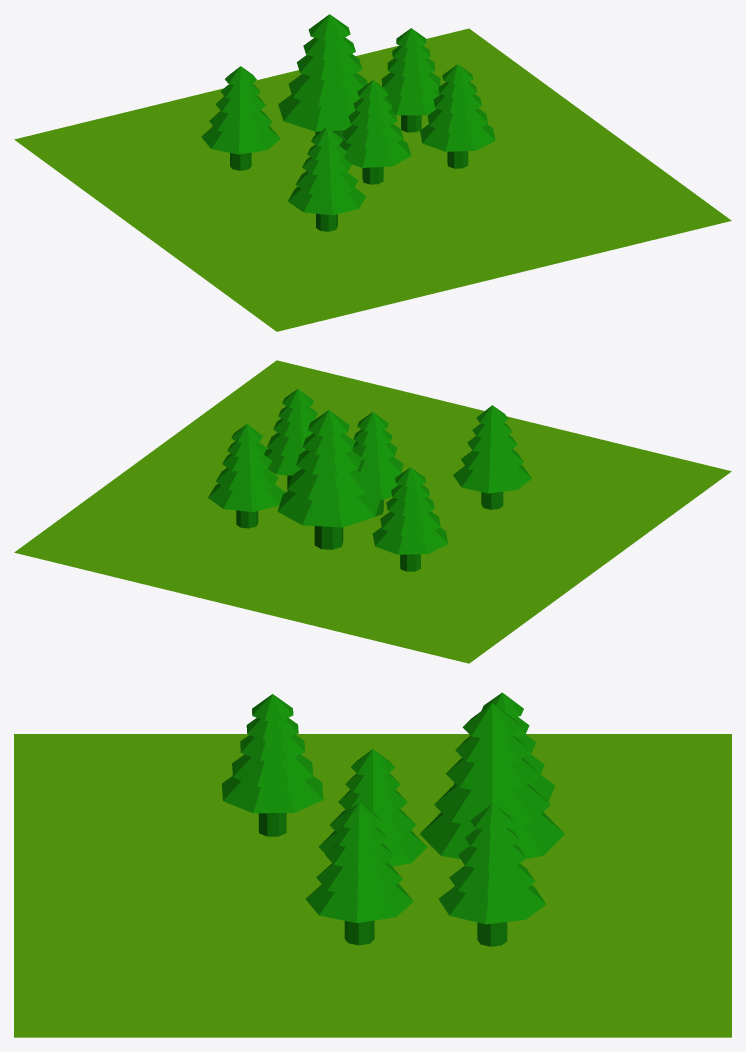
File: example_scene_2.glb
3 renders of one model, top to bottom at view 1: azimuth 30°, elevation 25°; view 2: azimuth 150°, elevation 25°; view 3: azimuth 270°, elevation 25°, orthographic. The views are drawn at different scales.
Parts seen in each view (by area): view 1: ground, pine.005, pine.004, pine.003, pine.001, pine, pine.002; view 2: ground, pine.005, pine.001, pine.003, pine.002, pine, pine.004; view 3: ground, pine.005, pine.003, pine.002, pine.004, pine, pine.001.
Boxes of the visible parts, left/top/right/bottom form: ground: left=14, top=28, right=731, bottom=331; pine.005: left=278, top=14, right=367, bottom=141; pine.004: left=420, top=64, right=495, bottom=168; pine.003: left=288, top=127, right=366, bottom=231; pine.001: left=201, top=66, right=280, bottom=170; pine: left=339, top=80, right=411, bottom=184; pine.002: left=381, top=28, right=440, bottom=132; ground: left=14, top=360, right=731, bottom=663; pine.005: left=277, top=410, right=380, bottom=549; pine.001: left=372, top=467, right=448, bottom=571; pine.003: left=453, top=405, right=531, bottom=509; pine.002: left=208, top=424, right=285, bottom=528; pine: left=352, top=412, right=403, bottom=516; pine.004: left=264, top=389, right=317, bottom=490; ground: left=14, top=734, right=731, bottom=1037; pine.005: left=420, top=703, right=564, bottom=859; pine.003: left=222, top=694, right=323, bottom=836; pine.002: left=438, top=803, right=546, bottom=946; pine.004: left=305, top=802, right=413, bottom=945; pine: left=319, top=749, right=426, bottom=866; pine.001: left=453, top=692, right=555, bottom=801.
Bounding box in the file's own units: 16 × 4.65 × 16.
